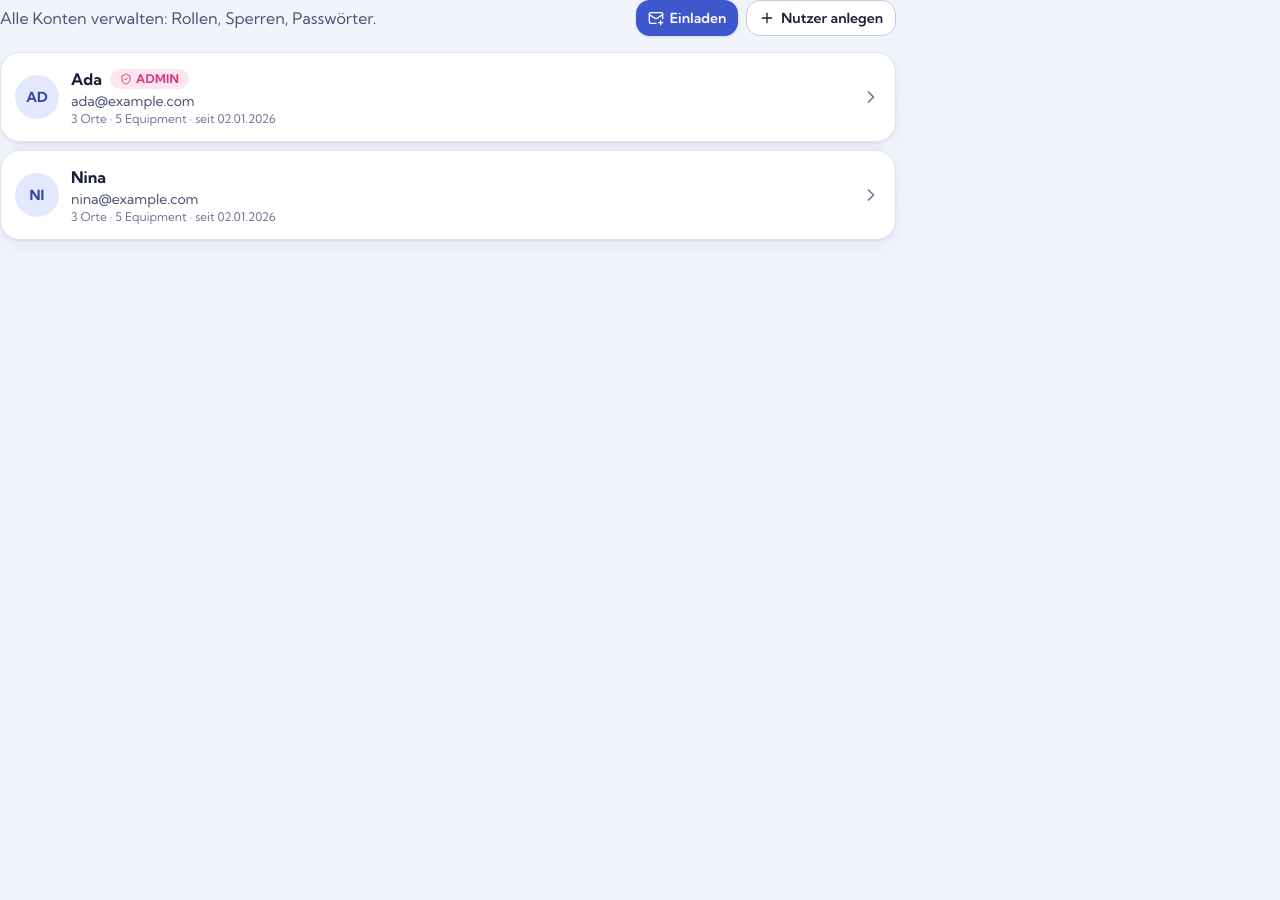
InviteSheet › creates an invitation with the chosen role and validity and shows the link once
This screenshot has width=1280, height=900.
Click the button "Einladen": {"x": 687, "y": 18} x1=636 y1=0 x2=738 y2=36
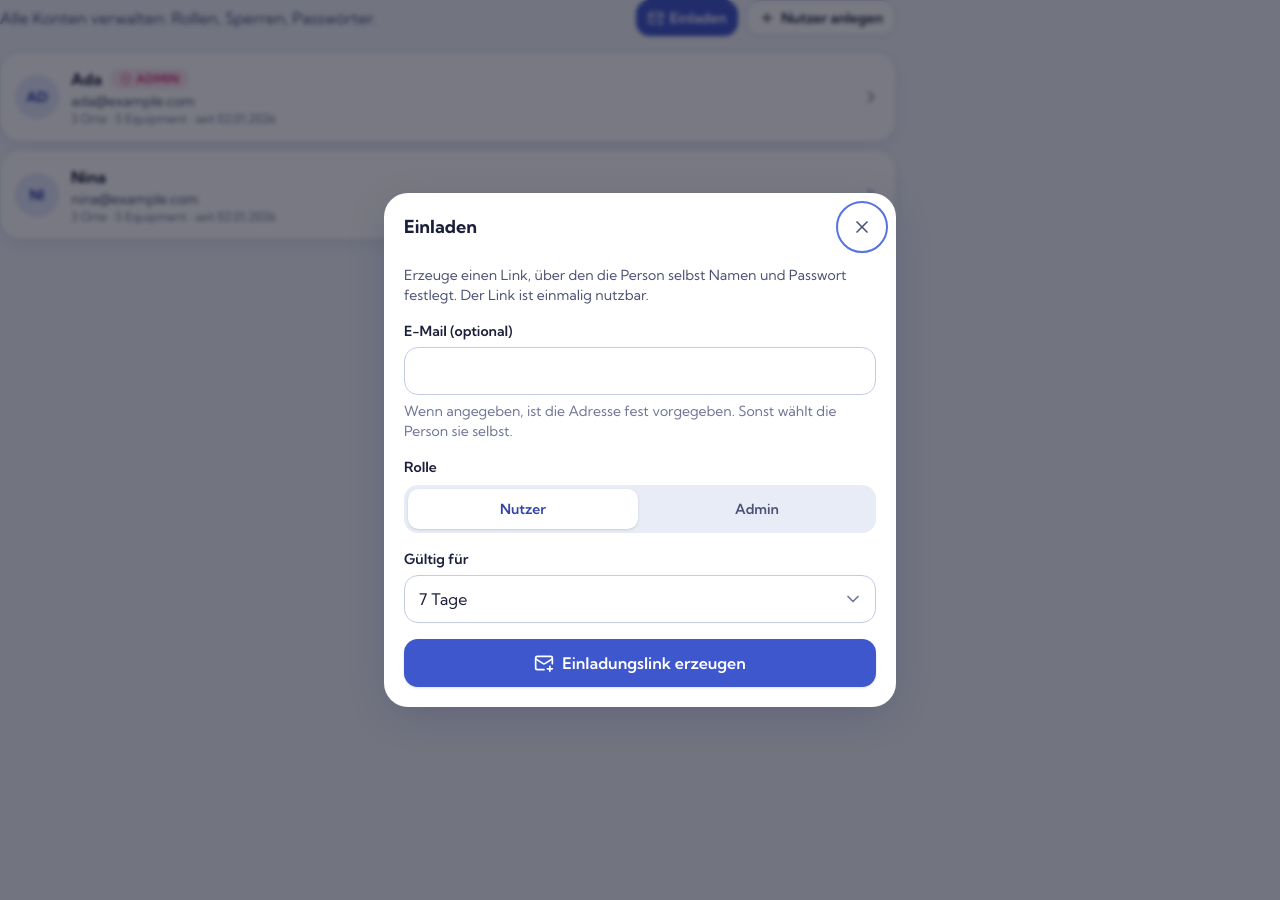
Click the button "Einladungslink erzeugen": {"x": 640, "y": 663} x1=404 y1=639 x2=876 y2=687
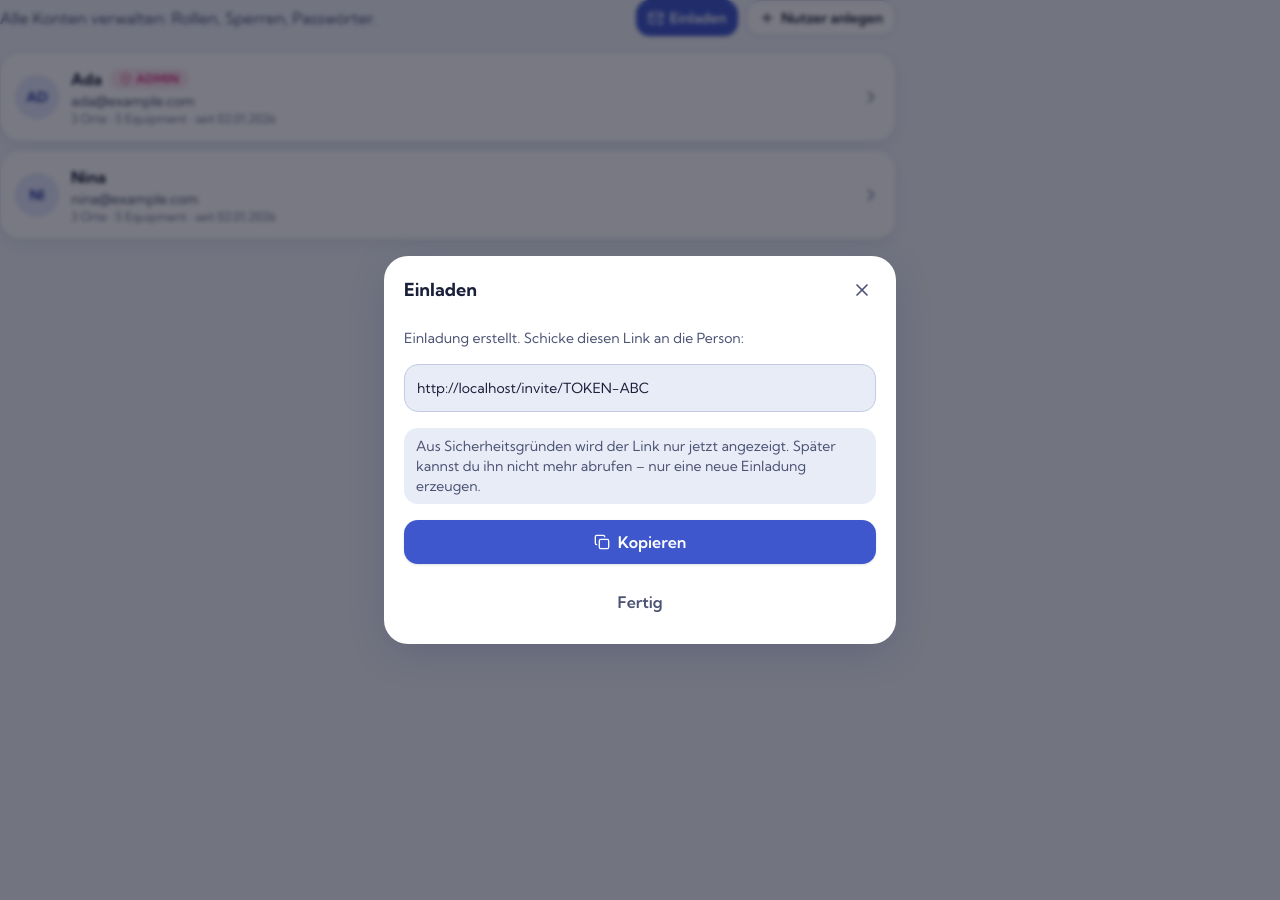
Now the text "nur jetzt angezeigt" is shown, box x1=416 y1=437 x2=836 y2=495
